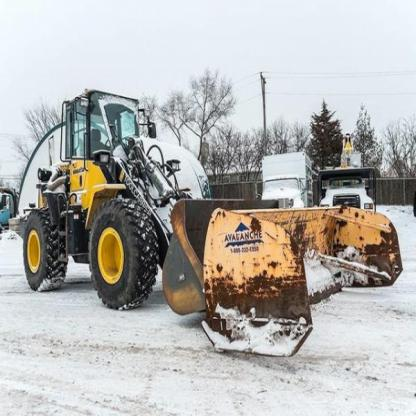bull_dozer/loader/grader: (17, 81, 306, 360)
